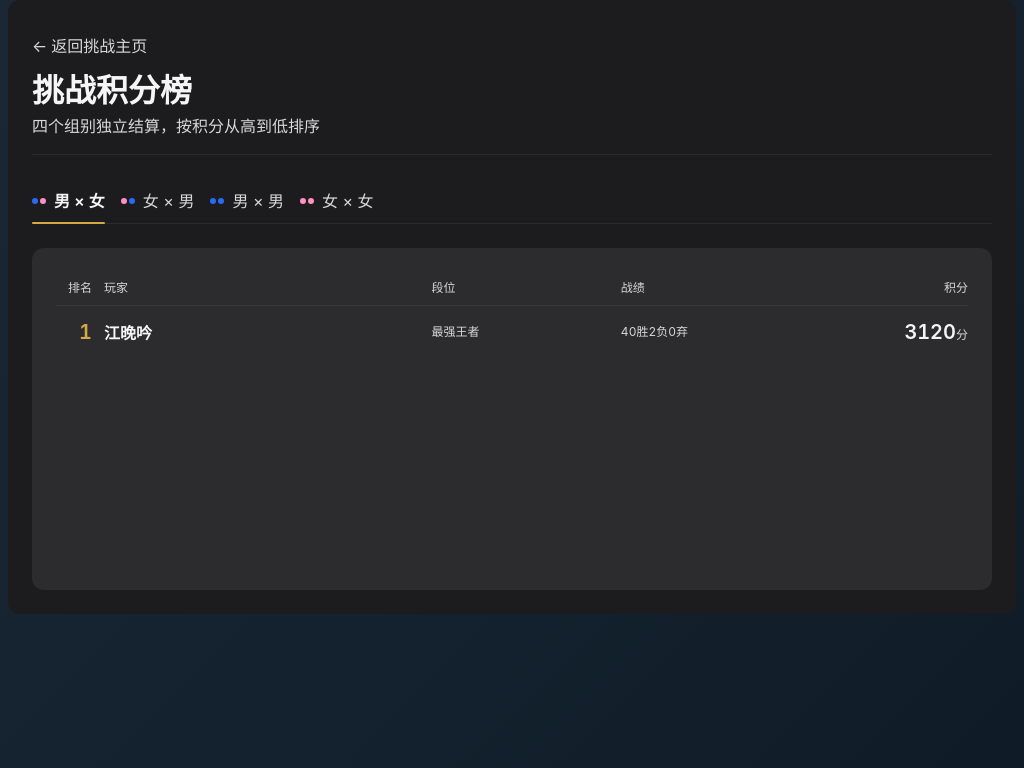
it: FP-13 空态永久灰与榜单四态单一源 › 积分榜切组清空旧榜单、显示骨架并丢弃过期响应
Expected: the number of list items with class "bangdan-hang" is 1, [79, 320, 968, 344]
Click the button with class "zubie-anNiu" showing "女 × 男" at (158, 201), box [121, 179, 194, 223]
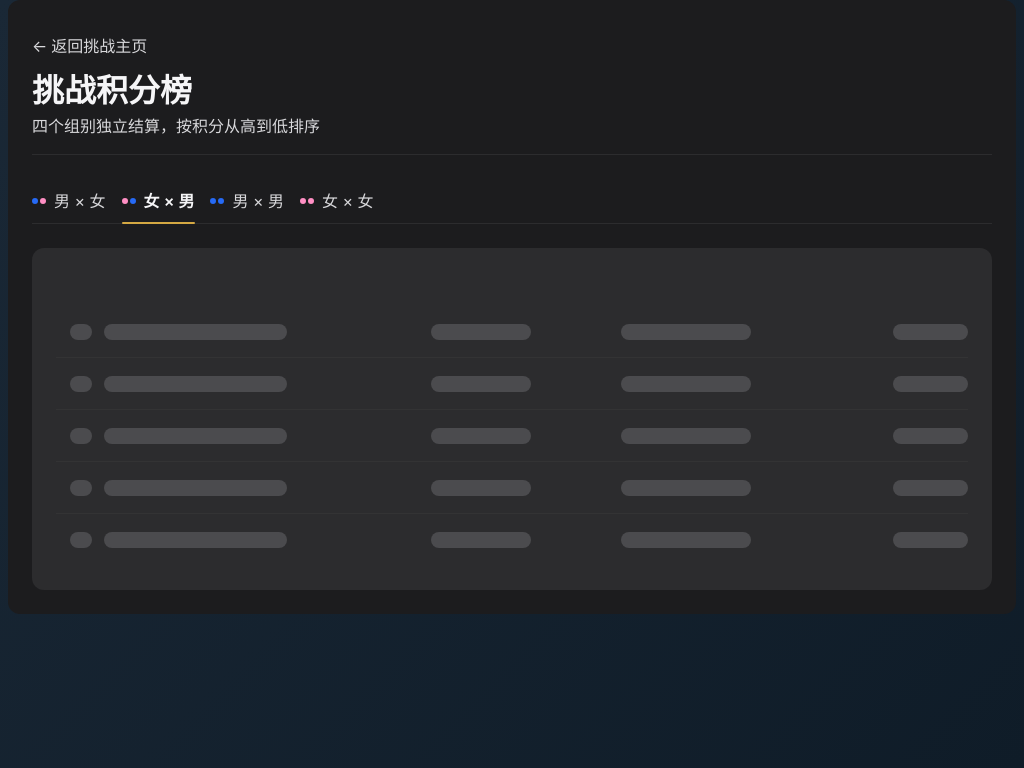
Expected: no list items with class "bangdan-hang" are shown
Expected: the 1st element with class "bangdan-zhanwei" is shown, [56, 306, 968, 358]
Click the button with class "zubie-anNiu" showing "男 × 男" at (247, 201), box [210, 179, 284, 223]
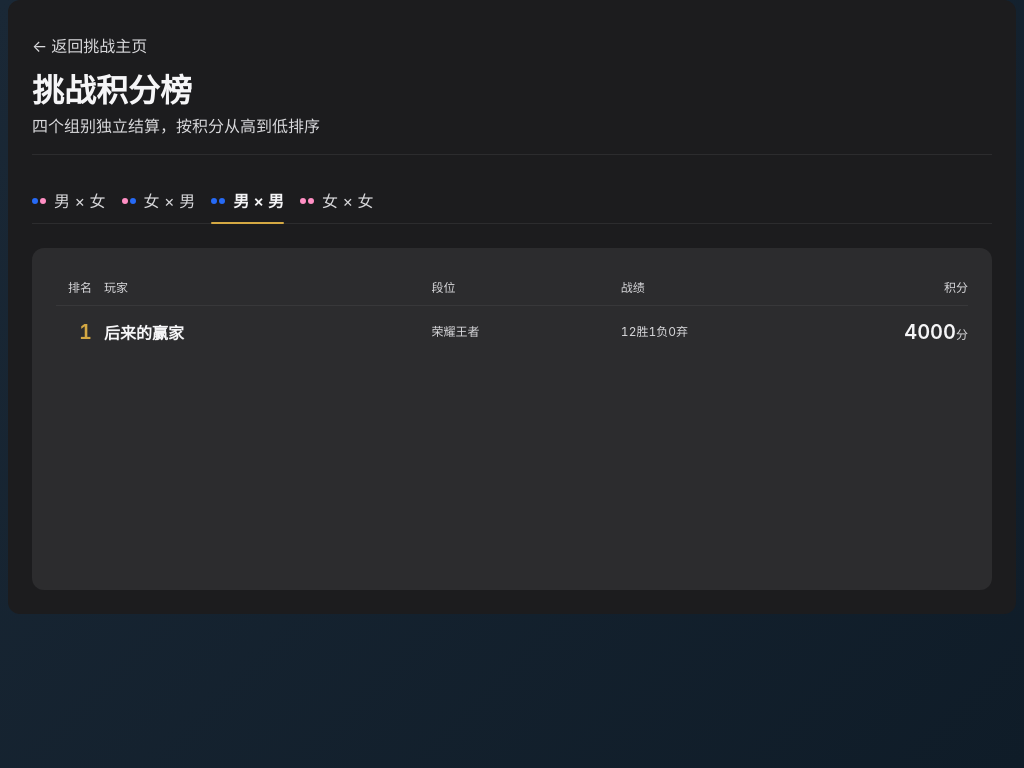
Expected: the list item with class "bangdan-hang" shows "后来的赢家", [104, 323, 184, 343]
Expected: the number of list items with class "bangdan-hang" is 1, [79, 320, 968, 344]
